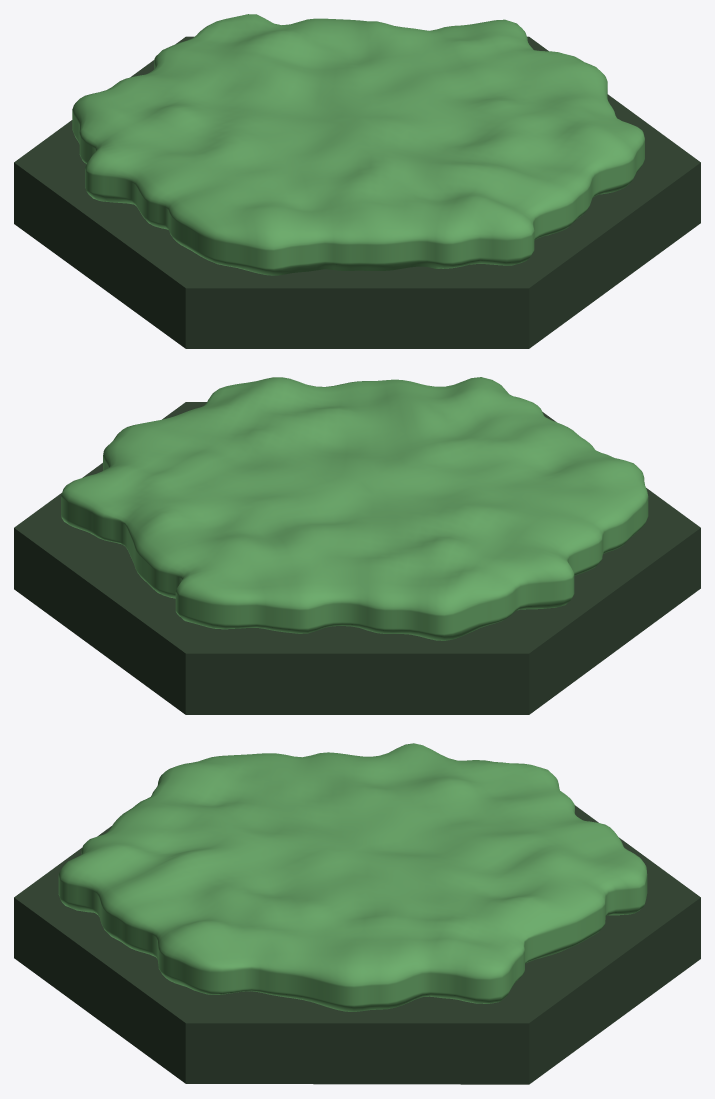
The model's file is biome_forest.fbx.
The picture shows the model from 3 angles, top to bottom: view 1: azimuth 30°, elevation 25°; view 2: azimuth 150°, elevation 25°; view 3: azimuth 270°, elevation 25°; orthographic projection.
Parts seen in each view (by area): view 1: Hexagon.002, Hexagon; view 2: Hexagon.002, Hexagon; view 3: Hexagon.002, Hexagon.
Boxes of the visible parts, x1,y1,x2,y2 form: Hexagon.002: (72, 14, 644, 275); Hexagon: (14, 36, 700, 348); Hexagon.002: (61, 377, 648, 640); Hexagon: (14, 402, 700, 714); Hexagon.002: (58, 743, 647, 1011); Hexagon: (14, 805, 700, 1084).
Size of the model in its own units: 173 by 36.44 by 200.
